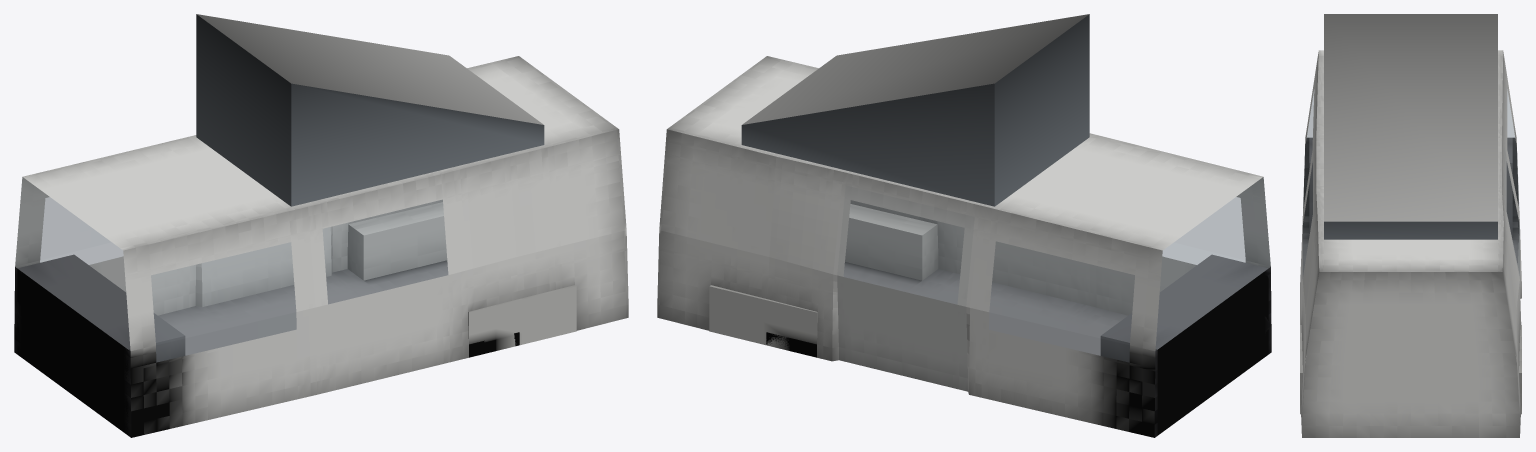
File: van.glb
3 renders of one model, left to right at view 1: azimuth 30°, elevation 25°; view 2: azimuth 150°, elevation 25°; view 3: azimuth 270°, elevation 25°, orthographic. The views are drawn at different scales.
Visible parts, largest first — view 1: wall_left, poptop_tent, roof_fixed, wall_left_glass, poptop_lid, windshield_glass, dashboard, front_panel, floor, wall_right, arch_right, arch_left (+2 smaller); view 2: wall_right, poptop_tent, roof_fixed, wall_right_glass, dashboard, wall_right_door, poptop_lid, windshield_glass, wall_left, floor, arch_left, arch_right (+2 smaller); view 3: poptop_lid, rear_panel, roof_fixed, poptop_tent, wall_left, wall_right, wall_right_glass, wall_left_glass, dashboard, front_panel, floor, wall_right_door (+1 smaller).
Boxes of the visible parts, box(x1,y1,x2,y2) form: wall_left: box(123, 129, 628, 437); poptop_tent: box(196, 14, 544, 206); roof_fixed: box(22, 56, 618, 250); wall_left_glass: box(151, 200, 447, 361); poptop_lid: box(196, 14, 543, 124); windshield_glass: box(15, 177, 129, 350); dashboard: box(17, 254, 185, 434); front_panel: box(14, 267, 131, 437); floor: box(158, 260, 448, 355); wall_right: box(15, 177, 442, 315); arch_right: box(347, 202, 447, 280); arch_left: box(468, 285, 576, 354); wall_right: box(657, 129, 1162, 437); poptop_tent: box(741, 14, 1089, 206); roof_fixed: box(667, 56, 1263, 250); wall_right_glass: box(844, 200, 1134, 361); dashboard: box(1100, 254, 1268, 435); wall_right_door: box(837, 185, 974, 391); poptop_lid: box(742, 14, 1089, 124); windshield_glass: box(1156, 177, 1270, 350); wall_left: box(850, 177, 1270, 315); floor: box(843, 262, 1127, 355); arch_left: box(845, 204, 938, 280); arch_right: box(709, 285, 817, 351); poptop_lid: box(1324, 14, 1497, 221); rear_panel: box(1302, 272, 1519, 437); roof_fixed: box(1316, 50, 1503, 271); poptop_tent: box(1324, 221, 1497, 239); wall_left: box(1300, 52, 1319, 433); wall_right: box(1502, 52, 1521, 433); wall_right_glass: box(1507, 91, 1519, 273); wall_left_glass: box(1303, 94, 1313, 274); dashboard: box(1309, 137, 1512, 239); front_panel: box(1304, 137, 1517, 216); floor: box(1302, 216, 1518, 278); wall_right_door: box(1504, 146, 1519, 278).
Size of the model in its own units: 3.92 by 2.3 by 1.66.
